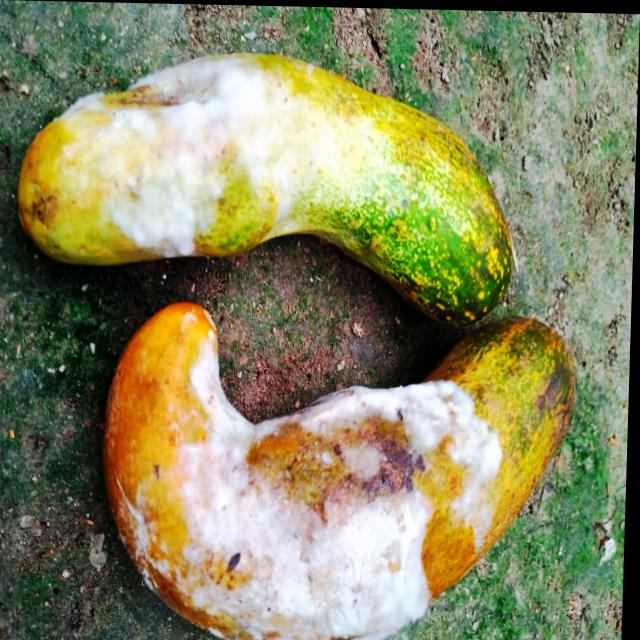Pythium-Fruit-Rot: (121, 342, 505, 640), (63, 41, 309, 260)
